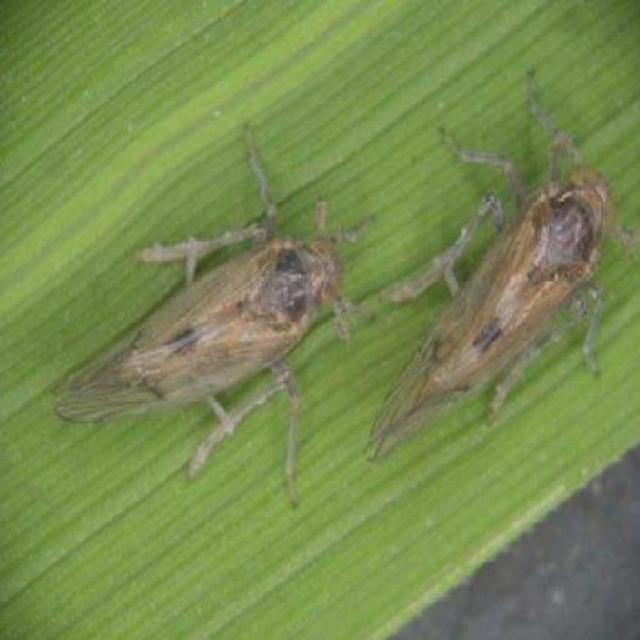brown-planthopper: (54, 178, 357, 464), (368, 152, 632, 471)
